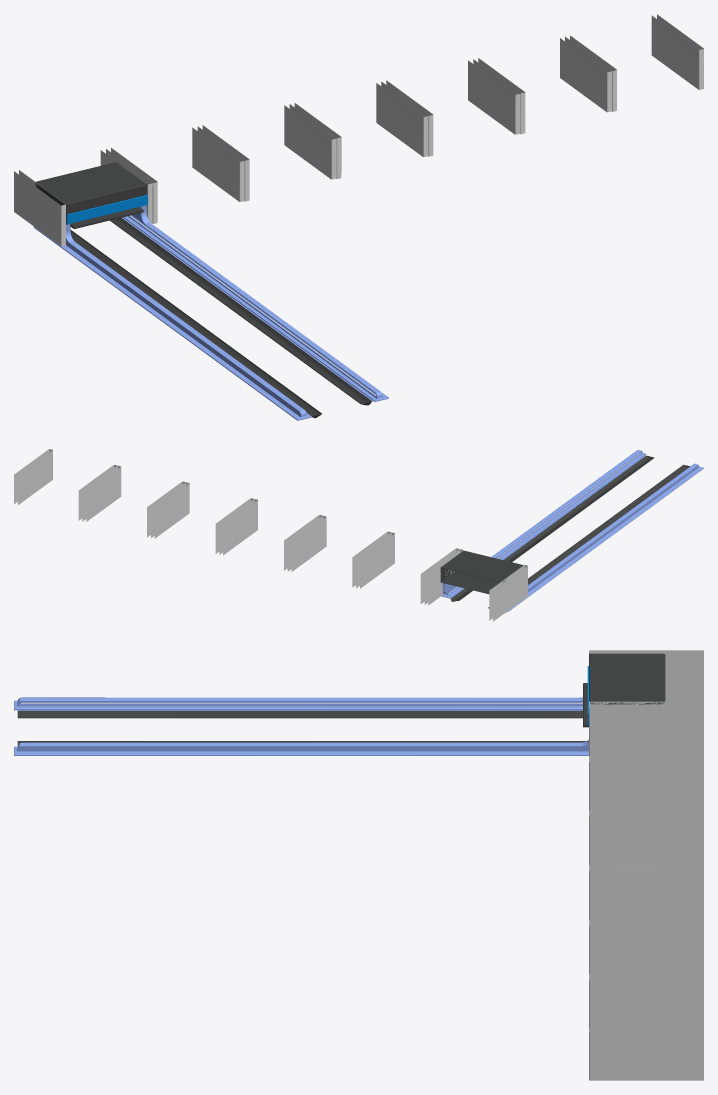
Rendered from LaneObjects.fbx.
The picture shows the model from 3 angles, top to bottom: view 1: azimuth 30°, elevation 25°; view 2: azimuth 150°, elevation 25°; view 3: azimuth 270°, elevation 25°; orthographic projection. The views are drawn at different scales.
Visible parts, largest first — view 1: Separator Lane End L.001, Lane End Box, Lane Metal Side L, Lane Metal Side R, Lane Ball Catcher R, Lane Ball Catcher L; view 2: Separator Lane End L.001, Lane End Box, Lane Metal Side L, Lane Metal Side R, Lane Ball Catcher R, Lane Ball Catcher L; view 3: Separator Lane End L.001, Lane Metal Side R, Lane Metal Side L, Lane Ball Catcher L, Lane End Box, Lane Ball Catcher R.
Part boxes in pixels (x1,y1,x2,y2): Separator Lane End L.001: (14,14,703,246); Lane End Box: (35,162,147,224); Lane Metal Side L: (33,224,311,420); Lane Metal Side R: (123,205,388,401); Lane Ball Catcher R: (110,217,373,405); Lane Ball Catcher L: (70,230,321,418); Separator Lane End L.001: (14,449,527,621); Lane End Box: (440,550,523,594); Lane Metal Side L: (506,463,703,612); Lane Metal Side R: (441,450,646,598); Lane Ball Catcher R: (449,455,653,601); Lane Ball Catcher L: (488,464,689,608); Separator Lane End L.001: (589,650,703,1080); Lane Metal Side R: (14,740,588,755); Lane Metal Side L: (14,697,582,710); Lane Ball Catcher L: (17,710,582,718); Lane End Box: (587,653,665,725); Lane Ball Catcher R: (17,741,586,745).
Bounding box in the file's own units: 2651 × 182 × 2025.
